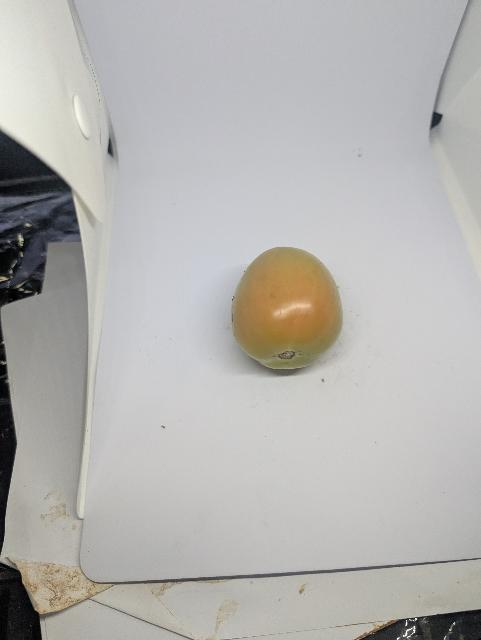breaker: (226, 235, 351, 382)
